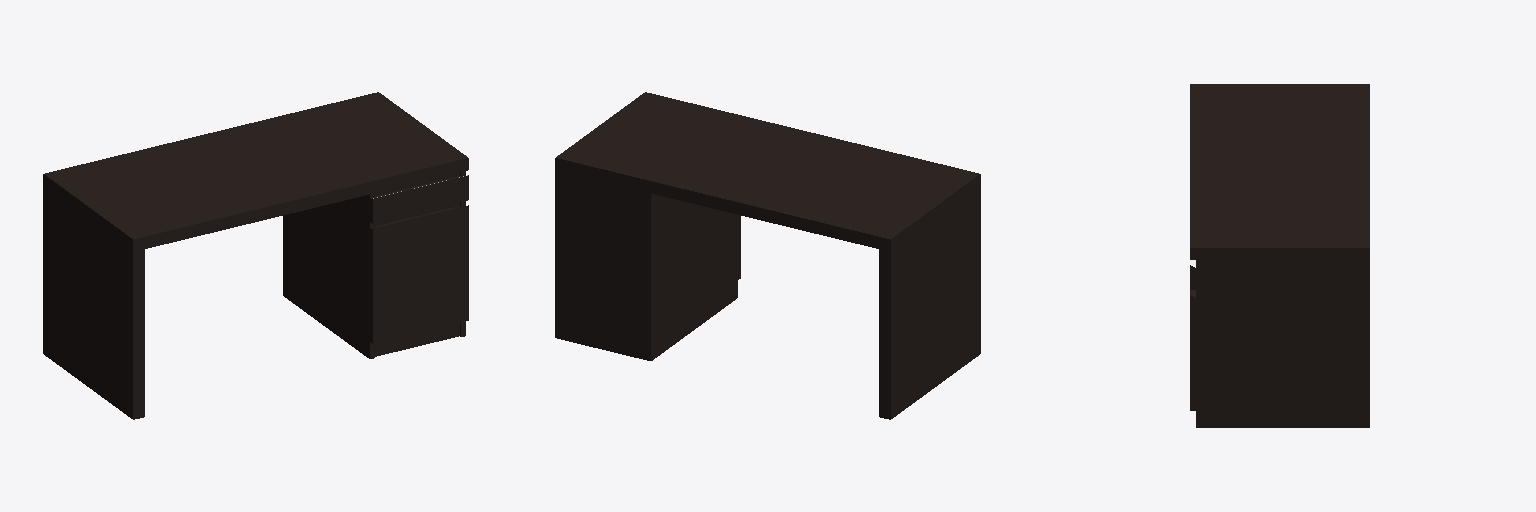
Rendered from malm_desk_1_obj0_object.obj.
3 views of the same model, side by side, from view 1: azimuth 30°, elevation 25°; view 2: azimuth 150°, elevation 25°; view 3: azimuth 270°, elevation 25° (orthographic).
Parts seen in each view (by area): view 1: Mesh1 Model; view 2: Mesh1 Model; view 3: Mesh1 Model.
Part boxes in pixels (x1,y1,x2,y2): Mesh1 Model: (43, 92, 468, 419); Mesh1 Model: (555, 92, 980, 419); Mesh1 Model: (1190, 84, 1369, 427).
Bounding box in the file's own units: 1.4 × 0.72 × 0.65.